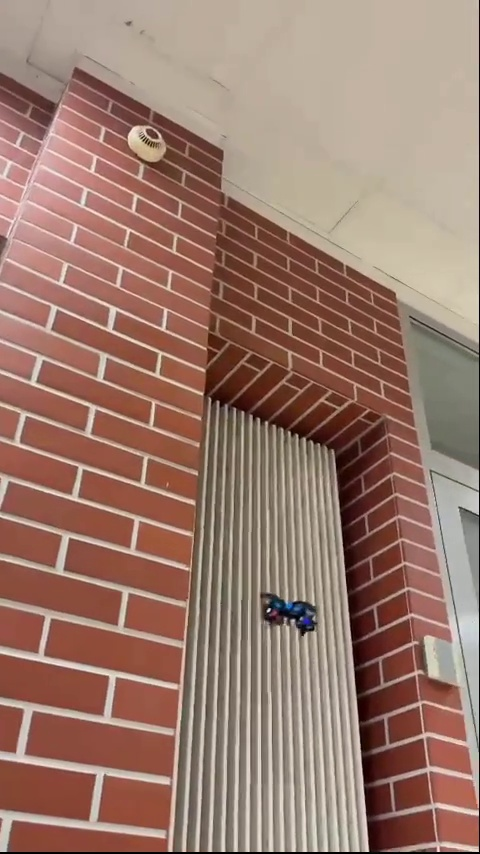drone: (260, 590, 317, 635)
